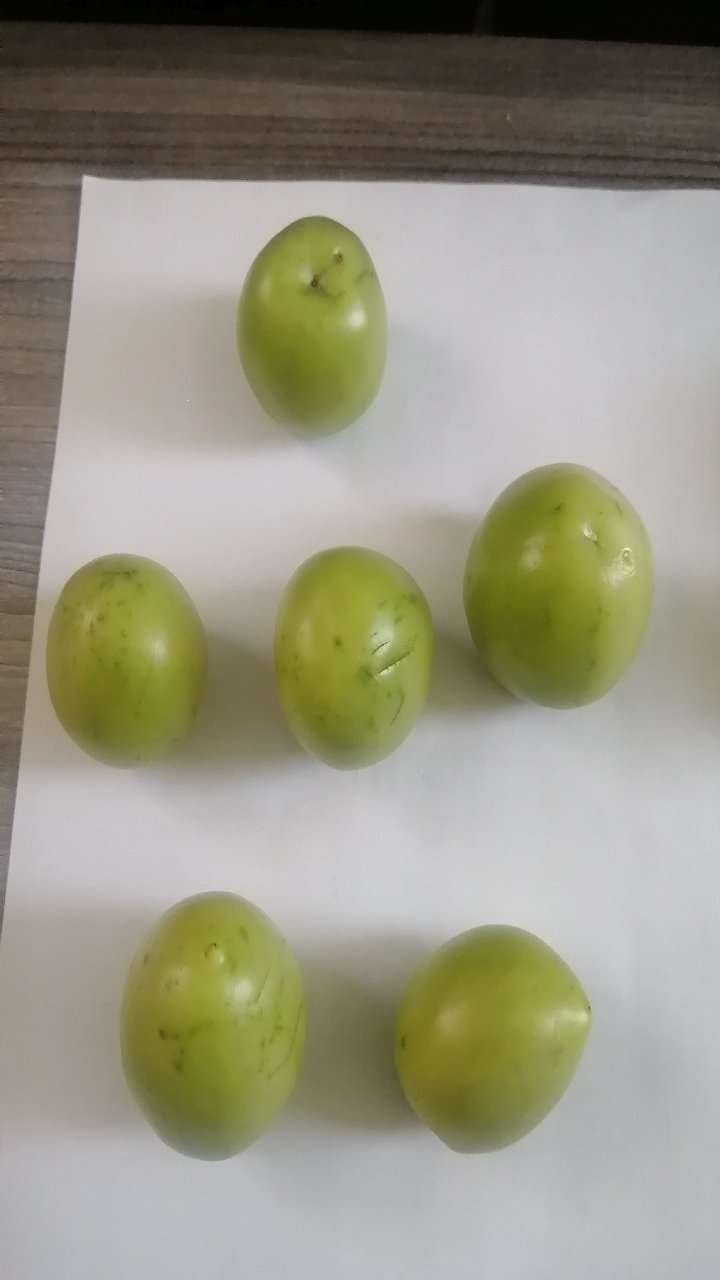tomateVerde: (368, 906, 629, 1171), (101, 874, 326, 1171), (449, 454, 669, 734), (246, 522, 455, 791), (221, 197, 412, 454), (38, 554, 221, 789)
